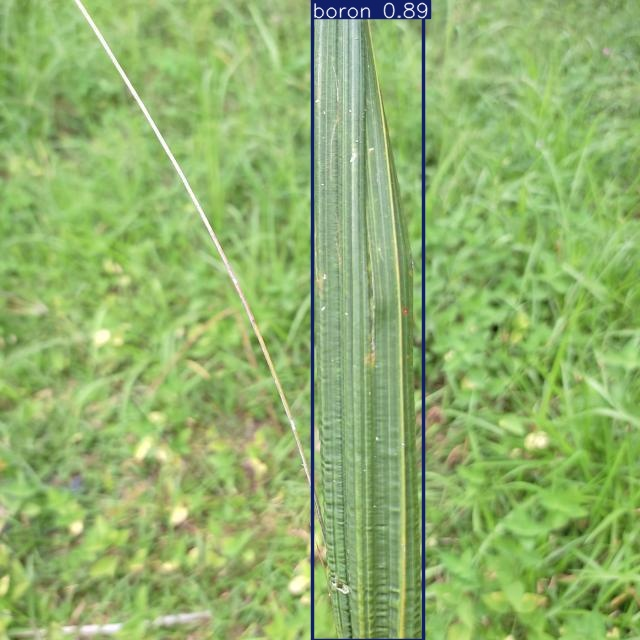nitrogen: (312, 0, 423, 640)
